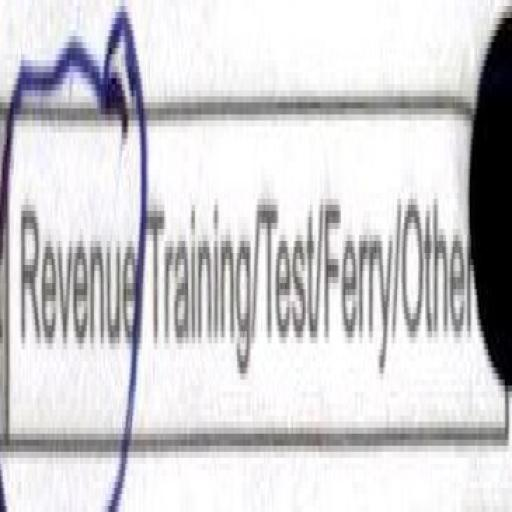check: (7, 28, 142, 490)
